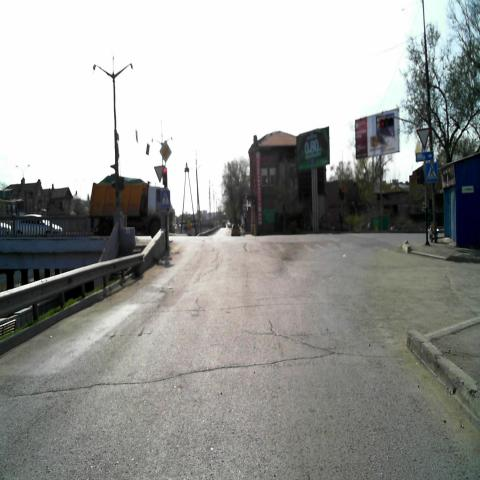6_15_2: (415, 150, 433, 162)
